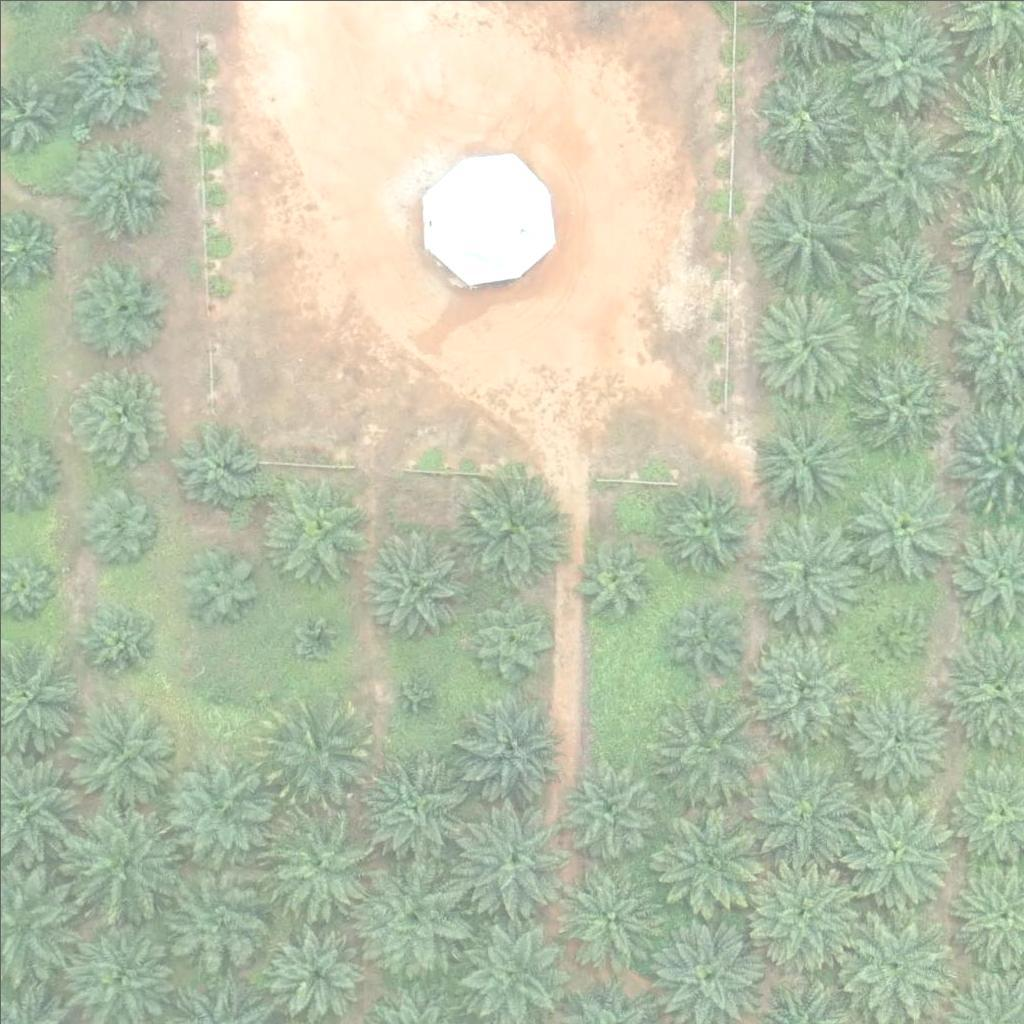Kelapa_Sawit: (68, 807, 181, 921), (743, 634, 856, 748), (837, 793, 950, 907), (63, 698, 176, 811), (161, 858, 274, 971), (453, 801, 566, 914), (450, 686, 563, 799), (555, 865, 668, 978), (739, 854, 852, 967), (745, 759, 858, 872), (834, 903, 947, 1016), (845, 468, 958, 581), (848, 346, 961, 459), (749, 511, 862, 624), (745, 407, 858, 520), (745, 284, 858, 397), (750, 172, 863, 285), (450, 473, 563, 586), (843, 112, 955, 226), (259, 472, 371, 586), (260, 697, 372, 810), (157, 751, 269, 864), (262, 807, 374, 920), (362, 861, 474, 974), (358, 754, 470, 867), (645, 805, 757, 918), (646, 698, 758, 811), (358, 523, 470, 636), (846, 1, 958, 114), (265, 922, 365, 1023), (556, 757, 656, 858), (73, 138, 173, 239), (65, 27, 165, 128), (842, 690, 942, 790), (852, 239, 952, 339), (753, 66, 853, 166), (63, 365, 163, 465), (68, 258, 168, 358), (659, 479, 747, 568), (166, 425, 254, 513), (464, 590, 551, 678), (173, 540, 260, 628), (74, 590, 161, 678), (77, 481, 164, 569), (663, 592, 738, 668), (577, 542, 652, 617), (859, 602, 921, 665), (386, 669, 436, 720), (292, 613, 342, 664), (195, 677, 245, 727)
